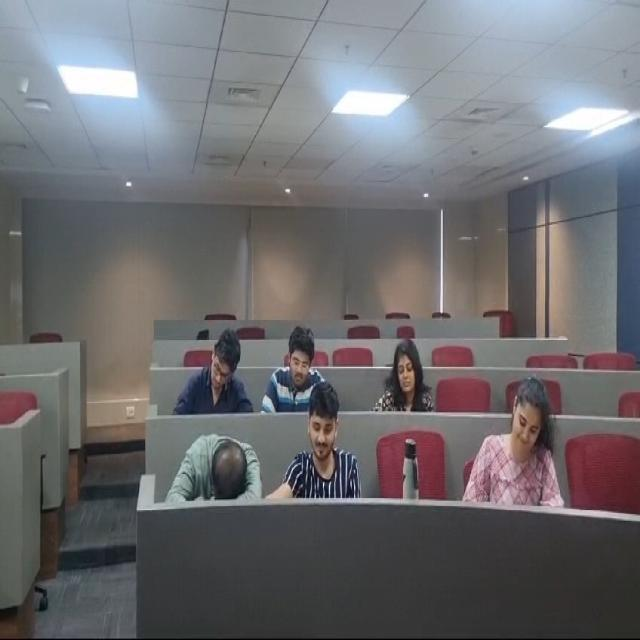cheating: (161, 412, 293, 514), (277, 376, 363, 507)
non-cheating: (471, 376, 563, 514), (186, 319, 256, 419), (263, 316, 331, 406), (364, 332, 434, 409)
